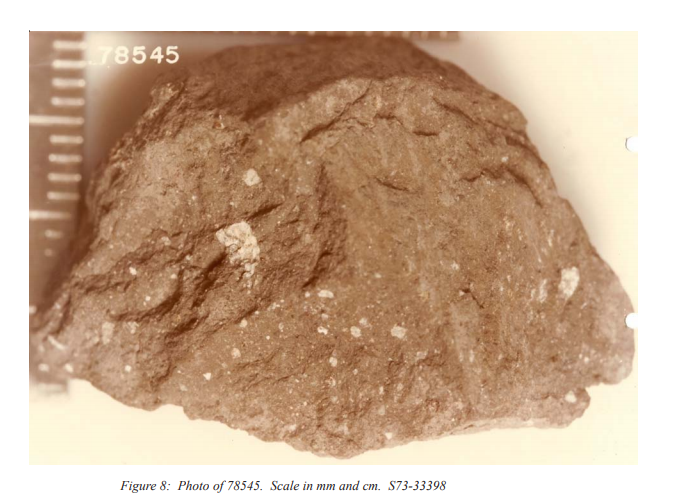Basalt: (57, 61, 639, 445), (178, 182, 589, 388)
